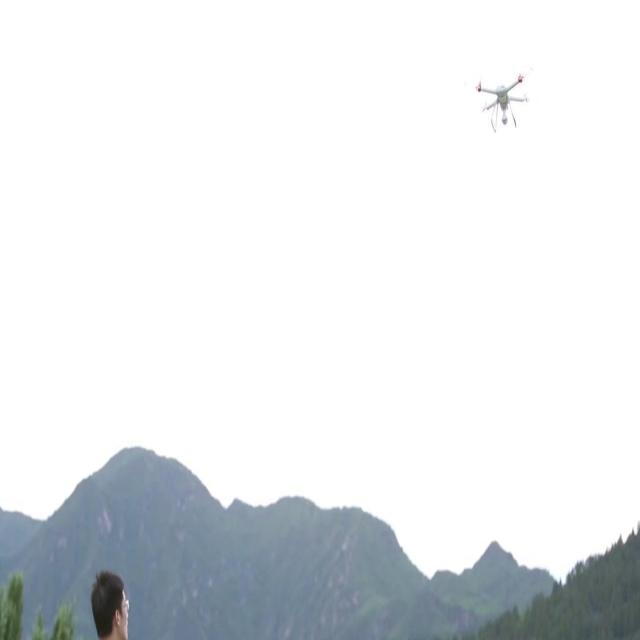drone: (471, 62, 535, 140)
